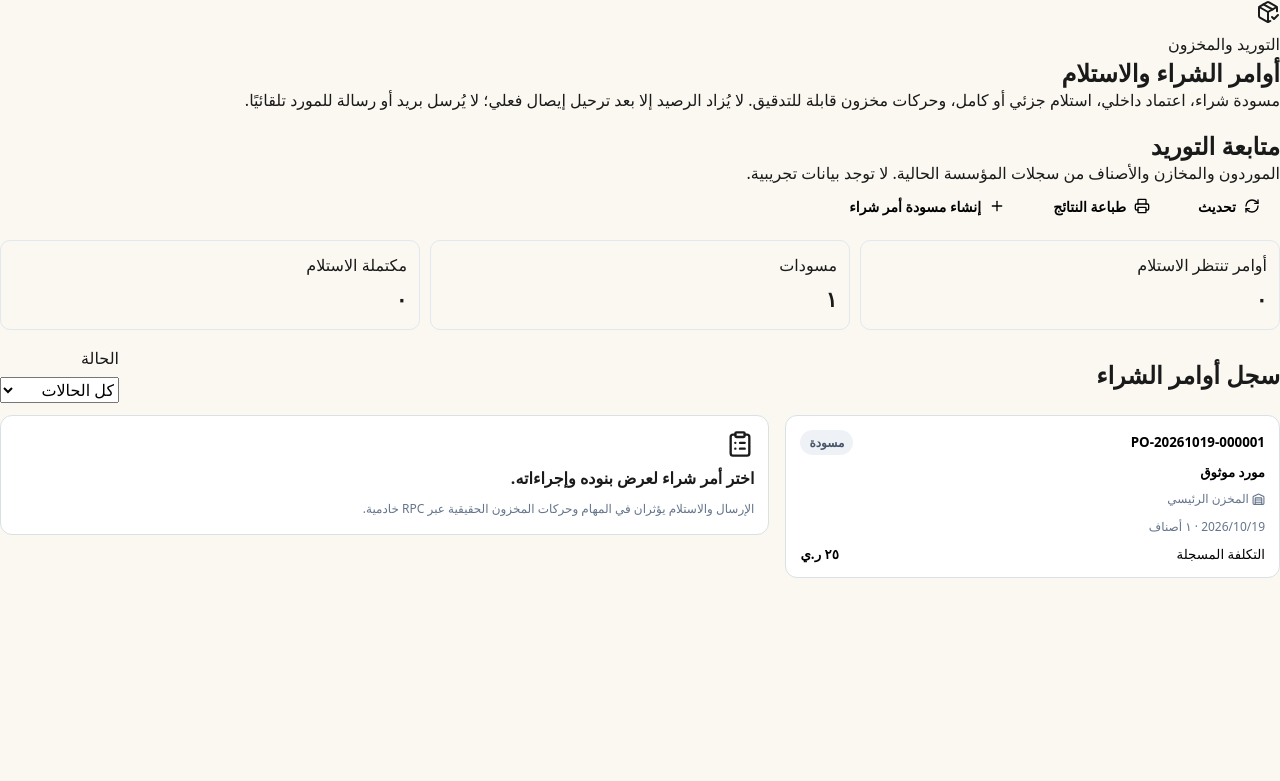
purchase orders page › creates a target-native draft while preserving an unknown unit cost as null
Expected: the text "PO-20261019-000001" is shown, [1131,433,1265,451]
Click the button "إنشاء مسودة أمر شراء" at [927, 206], box [829,187,1025,226]
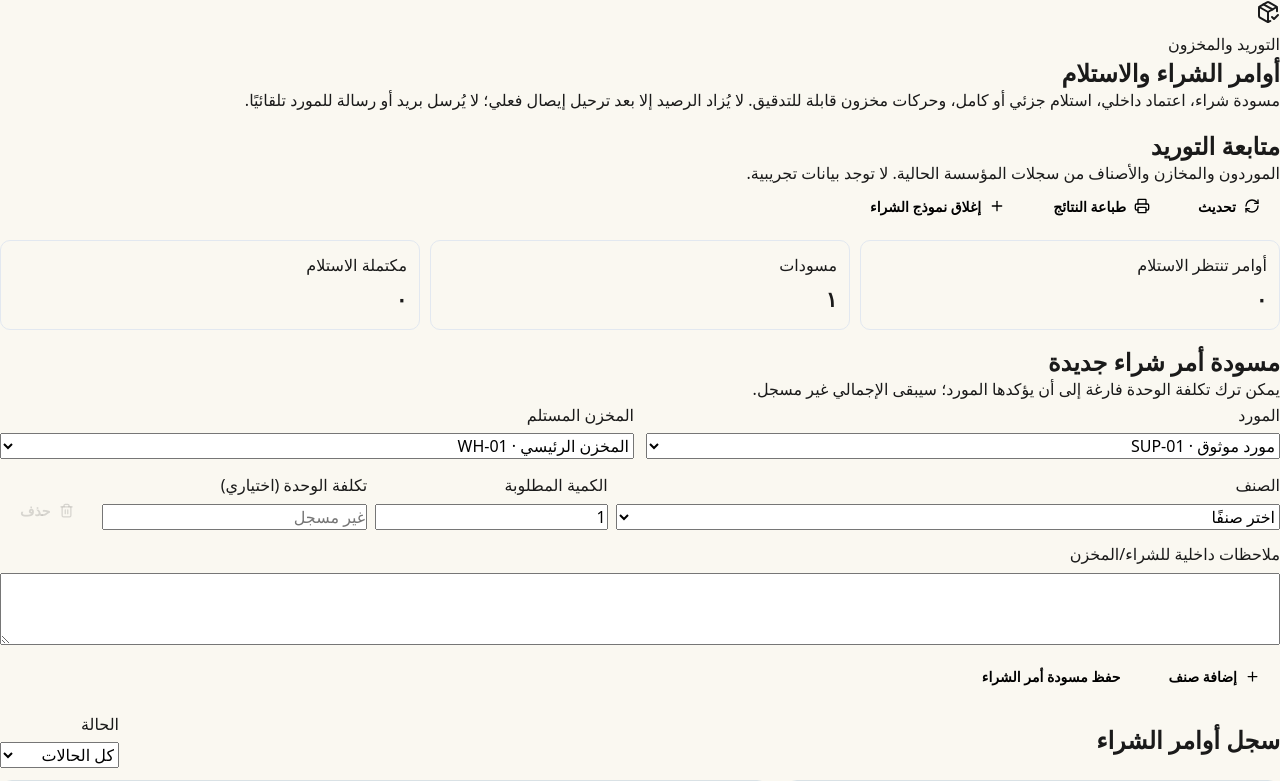
Select "سكر · 0000125" in the dropdown labelled "الصنف" at [948, 517], box [616,504,1279,530]
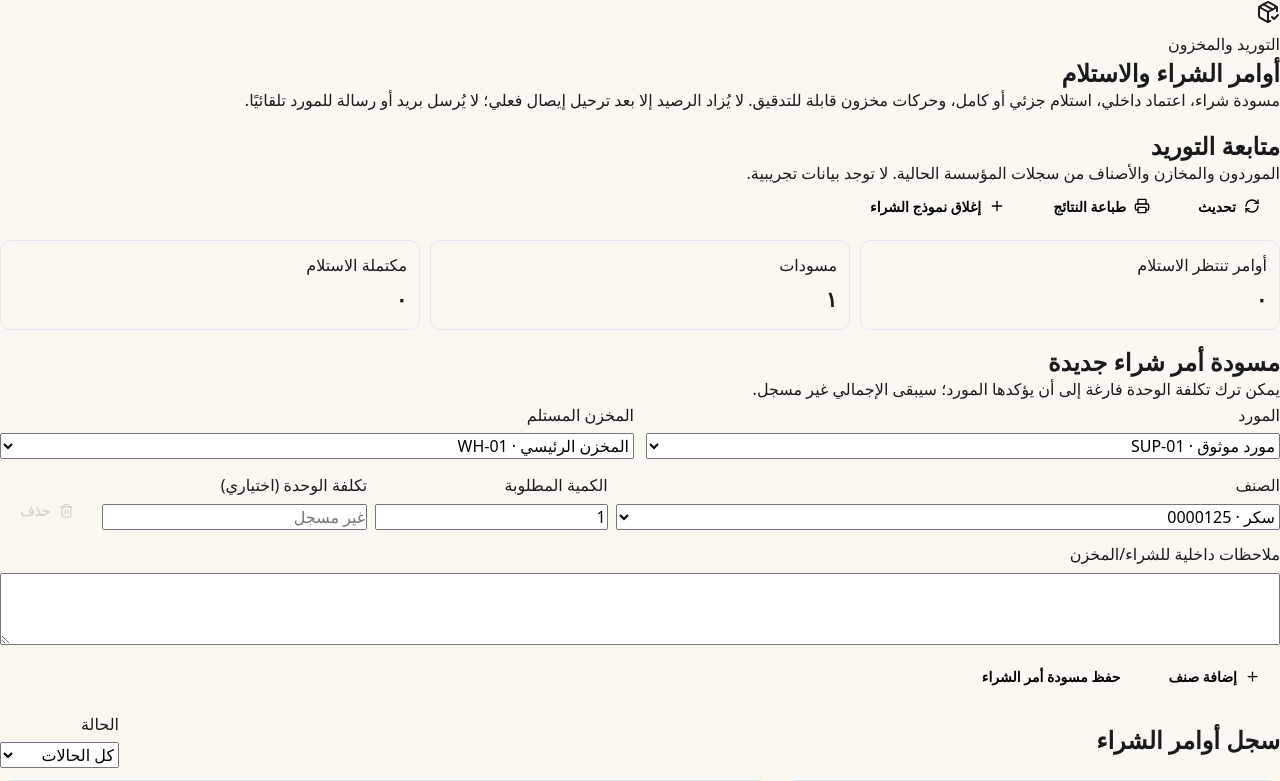
Click the button "حفظ مسودة أمر الشراء" at [1051, 676], box [962,656,1140,696]
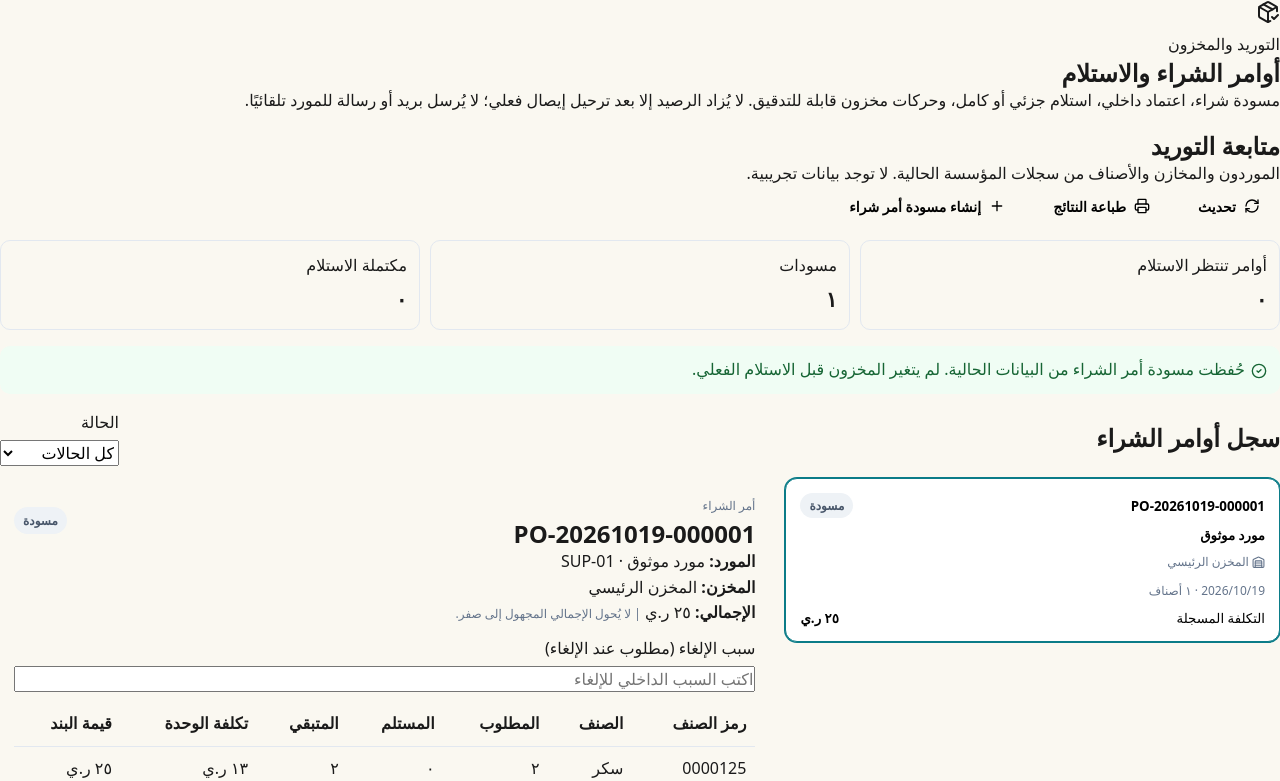
Result: the text "حُفظت مسودة أمر الشراء من البيانات الحالية" is shown at [692,358,1245,380]
